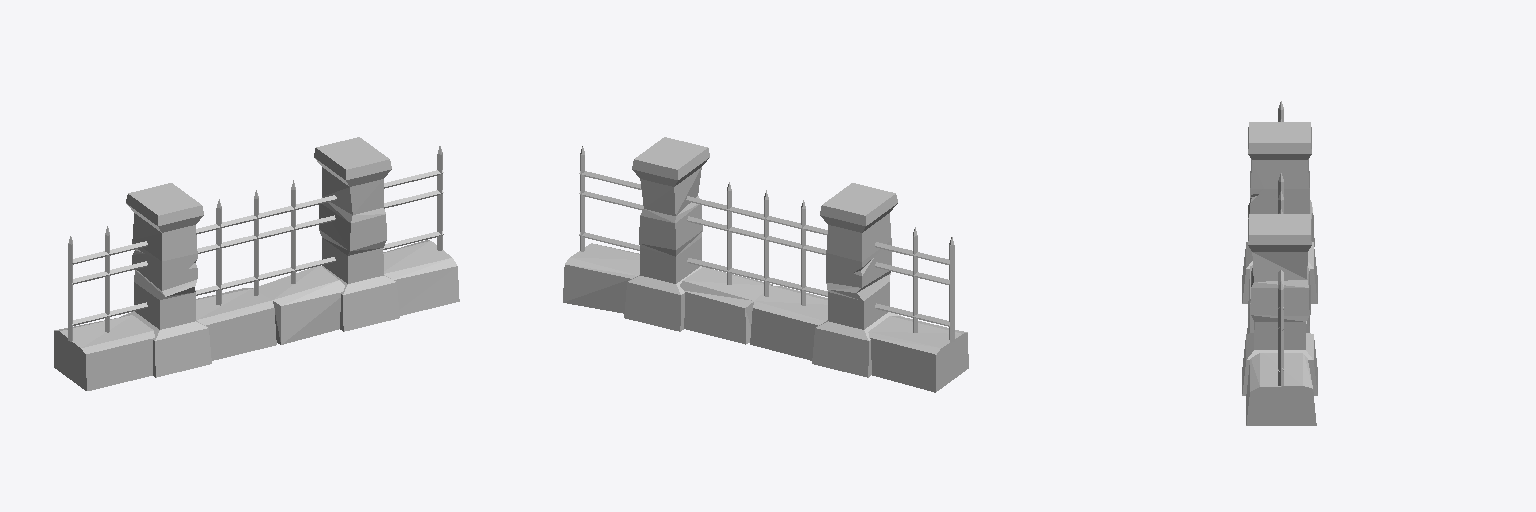
File: rejaA.obj
The picture shows the model from 3 angles: view 1: azimuth 30°, elevation 25°; view 2: azimuth 150°, elevation 25°; view 3: azimuth 270°, elevation 25°; orthographic projection.
Visible parts, largest first — view 1: graveyard_wall_stone__23_; view 2: graveyard_wall_stone__23_; view 3: graveyard_wall_stone__23_.
Boxes of the visible parts, <box> form: graveyard_wall_stone__23_: <box>54,137,459,390</box>; graveyard_wall_stone__23_: <box>563,137,968,392</box>; graveyard_wall_stone__23_: <box>1242,101,1317,425</box>.
Bounding box in the file's own units: 4.03 × 1.62 × 0.7022.